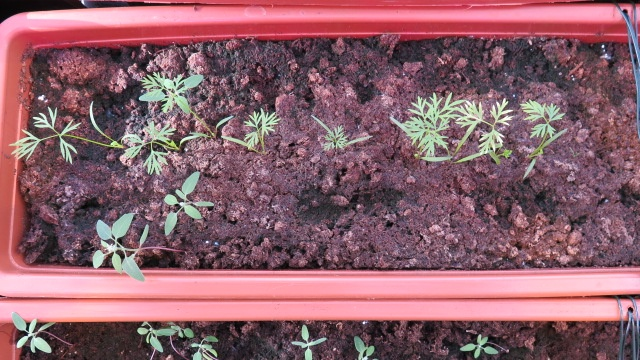crop: (386, 98, 467, 162), (460, 97, 523, 168), (523, 93, 563, 177)
weed: (159, 168, 219, 237), (453, 330, 503, 359)
